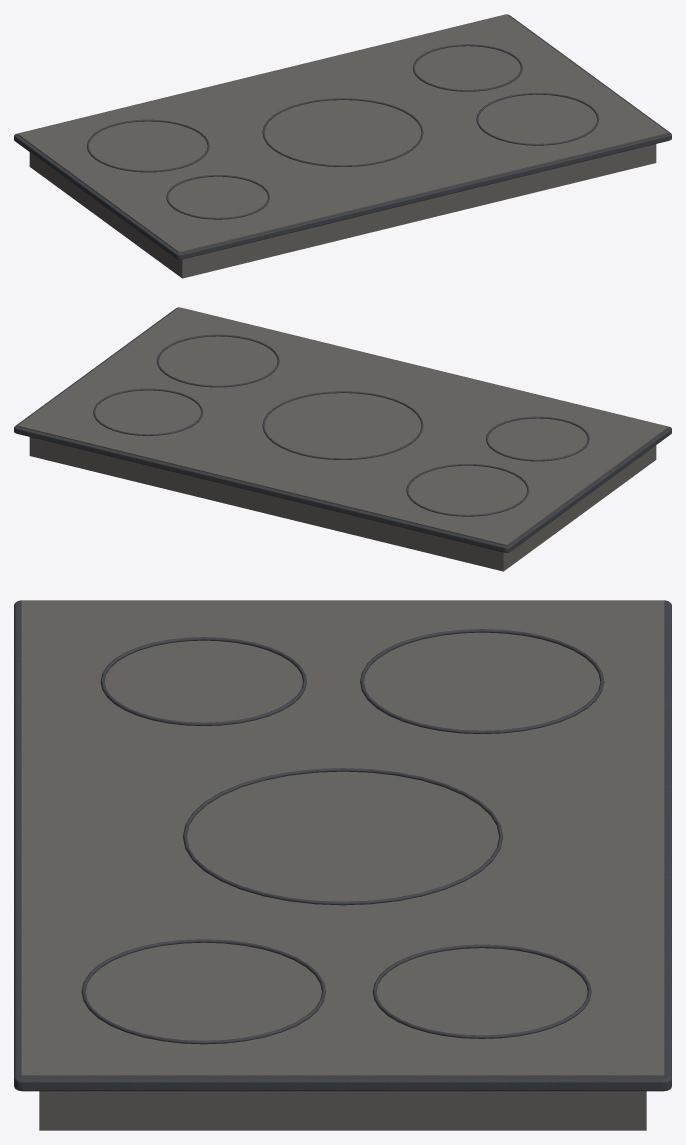
Rendered from kowhai-hero-kit-02.glb.
3 renders of one model, top to bottom at view 1: azimuth 30°, elevation 25°; view 2: azimuth 150°, elevation 25°; view 3: azimuth 270°, elevation 25°, orthographic. The views are drawn at different scales.
Parts seen in each view (by area): view 1: Cooktop_BlackCeramicGlass, Cooktop_UnderBenchHousing, Cooktop_BrushedTrimFrame, Cooktop_InductionZone_3, Cooktop_InductionZone_1, Cooktop_InductionZone_5, Cooktop_InductionZone_4, Cooktop_InductionZone_2; view 2: Cooktop_BlackCeramicGlass, Cooktop_UnderBenchHousing, Cooktop_BrushedTrimFrame, Cooktop_InductionZone_3, Cooktop_InductionZone_5, Cooktop_InductionZone_1, Cooktop_InductionZone_4, Cooktop_InductionZone_2; view 3: Cooktop_BlackCeramicGlass, Cooktop_UnderBenchHousing, Cooktop_BrushedTrimFrame, Cooktop_InductionZone_3, Cooktop_InductionZone_5, Cooktop_InductionZone_1, Cooktop_InductionZone_4, Cooktop_InductionZone_2.
Boxes of the visible parts, x1,y1,x2,y2 form: Cooktop_BlackCeramicGlass: (17, 14, 668, 252); Cooktop_UnderBenchHousing: (29, 144, 656, 278); Cooktop_BrushedTrimFrame: (14, 14, 671, 259); Cooktop_InductionZone_3: (262, 98, 423, 166); Cooktop_InductionZone_1: (86, 119, 209, 172); Cooktop_InductionZone_5: (476, 93, 599, 145); Cooktop_InductionZone_4: (412, 44, 522, 91); Cooktop_InductionZone_2: (166, 175, 269, 219); Cooktop_BlackCeramicGlass: (17, 307, 668, 545); Cooktop_UnderBenchHousing: (29, 437, 656, 571); Cooktop_BrushedTrimFrame: (14, 307, 671, 552); Cooktop_InductionZone_3: (262, 391, 423, 459); Cooktop_InductionZone_5: (156, 334, 279, 387); Cooktop_InductionZone_1: (406, 464, 529, 516); Cooktop_InductionZone_4: (93, 388, 203, 435); Cooktop_InductionZone_2: (486, 416, 589, 461); Cooktop_BlackCeramicGlass: (21, 600, 664, 1077); Cooktop_UnderBenchHousing: (39, 1091, 646, 1130); Cooktop_BrushedTrimFrame: (14, 600, 671, 1091); Cooktop_InductionZone_3: (183, 768, 502, 905); Cooktop_InductionZone_5: (81, 939, 325, 1044); Cooktop_InductionZone_1: (360, 629, 604, 733); Cooktop_InductionZone_4: (372, 944, 591, 1038); Cooktop_InductionZone_2: (100, 637, 306, 725).
Bounding box in the file's own units: 0.9 × 0.0574 × 0.5201.
Materials: 2 (1 with a texture image).
